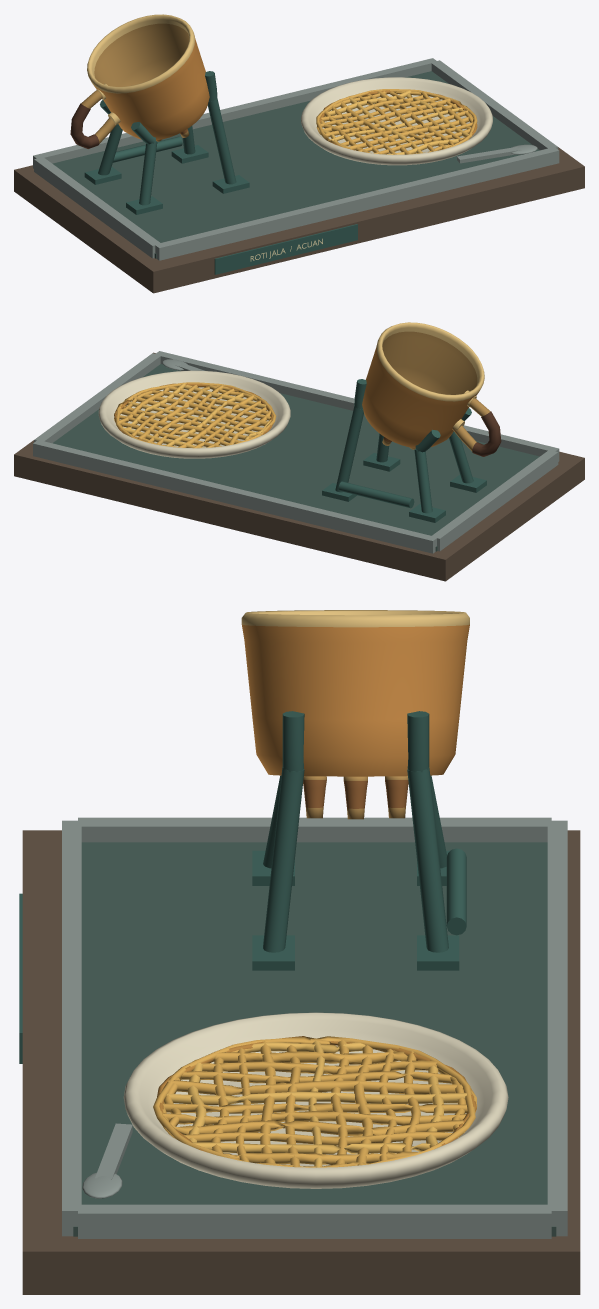
File: roti-jala-lace-pouring-cup.glb
3 views of the same model, one above another, from view 1: azimuth 30°, elevation 25°; view 2: azimuth 150°, elevation 25°; view 3: azimuth 270°, elevation 25° (orthographic). The views are drawn at different scales.
Visible parts, largest first — view 1: Inset compact demonstration tray, Low presentation board, CUP_ROLLED_BODY, Brushed rolled lengthwise tray edge, Warm cream shallow edged porcelain, Brushed rolled lengthwise tray edge.001, Short raised brushed metal tray edge, Fictional presentation plate, independent of utensil, Short raised brushed metal tray edge.001, Green angled cradle leg.001, Irregular circular net rim ribbon.002, Green angled cradle leg (+20 smaller); view 2: Inset compact demonstration tray, Low presentation board, CUP_ROLLED_BODY, Brushed rolled lengthwise tray edge.001, Warm cream shallow edged porcelain, Brushed rolled lengthwise tray edge, Short raised brushed metal tray edge, Short raised brushed metal tray edge.001, Green angled cradle leg.003, Irregular circular net rim ribbon.002, Rear stabilizing open rail, Green angled cradle leg.002 (+19 smaller); view 3: Inset compact demonstration tray, Low presentation board, CUP_ROLLED_BODY, Warm cream shallow edged porcelain, Short raised brushed metal tray edge.001, Short raised brushed metal tray edge, Brushed rolled lengthwise tray edge.001, Brushed rolled lengthwise tray edge, Green angled cradle leg.003, Green angled cradle leg.001, Irregular circular net rim ribbon.002, Physical roti jala crossing ribbon.017 (+24 smaller).
Part boxes in pixels (bbox=[...]): Inset compact demonstration tray: bbox=[52, 71, 539, 258]; Low presentation board: bbox=[14, 147, 584, 293]; CUP_ROLLED_BODY: bbox=[87, 14, 209, 140]; Brushed rolled lengthwise tray edge: bbox=[155, 147, 559, 260]; Warm cream shallow edged porcelain: bbox=[301, 77, 492, 165]; Brushed rolled lengthwise tray edge.001: bbox=[33, 58, 437, 168]; Short raised brushed metal tray edge: bbox=[34, 157, 160, 258]; Fictional presentation plate, independent of utensil: bbox=[214, 224, 357, 274]; Short raised brushed metal tray edge.001: bbox=[431, 60, 558, 150]; Green angled cradle leg.001: bbox=[207, 98, 236, 184]; Irregular circular net rim ribbon.002: bbox=[316, 89, 477, 154]; Green angled cradle leg: bbox=[139, 141, 157, 205]; Inset compact demonstration tray: bbox=[53, 364, 539, 551]; Low presentation board: bbox=[14, 352, 584, 581]; CUP_ROLLED_BODY: bbox=[362, 322, 484, 448]; Brushed rolled lengthwise tray edge.001: bbox=[33, 440, 437, 553]; Warm cream shallow edged porcelain: bbox=[98, 370, 290, 458]; Brushed rolled lengthwise tray edge: bbox=[155, 351, 559, 461]; Short raised brushed metal tray edge: bbox=[431, 450, 558, 551]; Short raised brushed metal tray edge.001: bbox=[34, 353, 160, 443]; Green angled cradle leg.003: bbox=[335, 406, 363, 492]; Irregular circular net rim ribbon.002: bbox=[115, 382, 276, 446]; Rear stabilizing open rail: bbox=[338, 481, 414, 508]; Green angled cradle leg.002: bbox=[414, 449, 432, 513]; Inset compact demonstration tray: bbox=[73, 842, 556, 1236]; Low presentation board: bbox=[22, 830, 580, 1294]; CUP_ROLLED_BODY: bbox=[241, 610, 469, 776]; Warm cream shallow edged porcelain: bbox=[123, 1012, 508, 1188]; Short raised brushed metal tray edge.001: bbox=[78, 1204, 551, 1238]; Short raised brushed metal tray edge: bbox=[78, 817, 551, 842]; Brushed rolled lengthwise tray edge.001: bbox=[547, 820, 567, 1236]; Brushed rolled lengthwise tray edge: bbox=[62, 820, 81, 1236]; Green angled cradle leg.003: bbox=[407, 767, 448, 952]; Green angled cradle leg.001: bbox=[263, 767, 304, 952]; Irregular circular net rim ribbon.002: bbox=[153, 1036, 475, 1164]; Physical roti jala crossing ribbon.017: bbox=[168, 1079, 462, 1095].
Bounding box in the file's own units: 0.751 × 0.3067 × 0.423.
